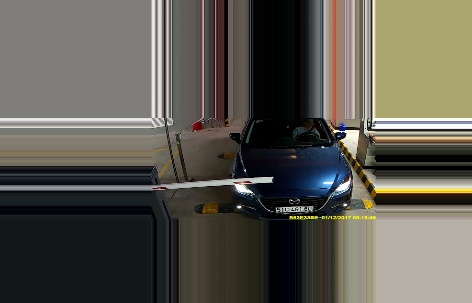plate: (271, 203, 315, 214)
